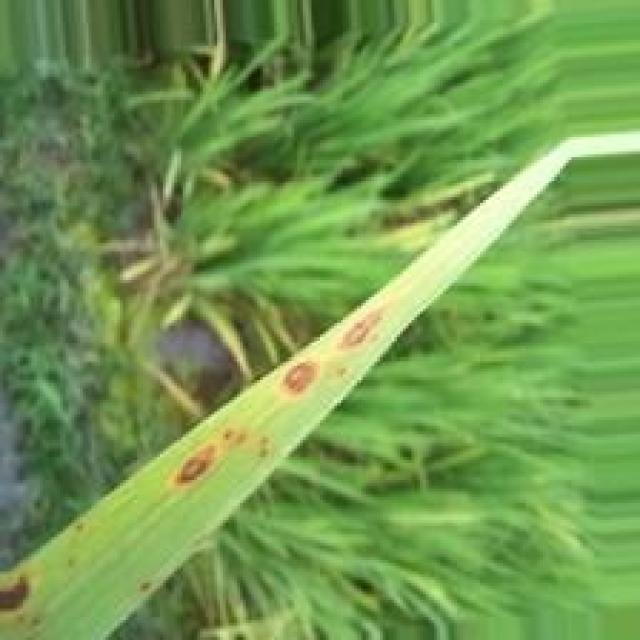Brown_Spot: (171, 437, 219, 493), (334, 306, 387, 352), (282, 365, 316, 399)
